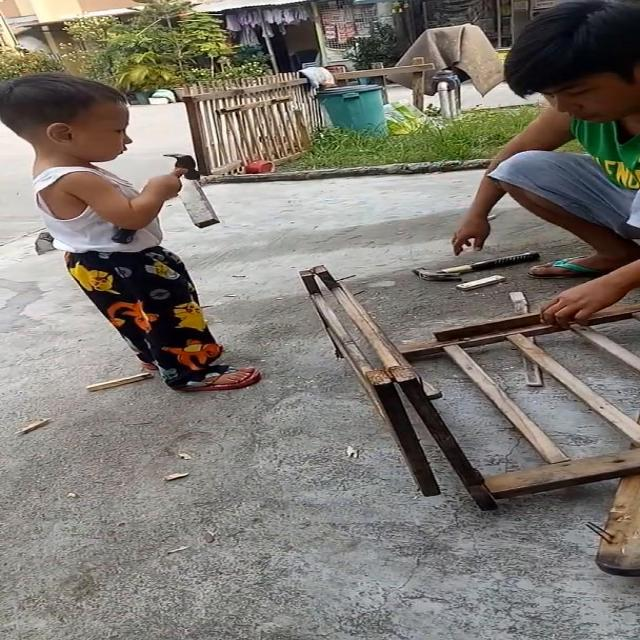hammer: (108, 152, 201, 244), (411, 250, 542, 282)
